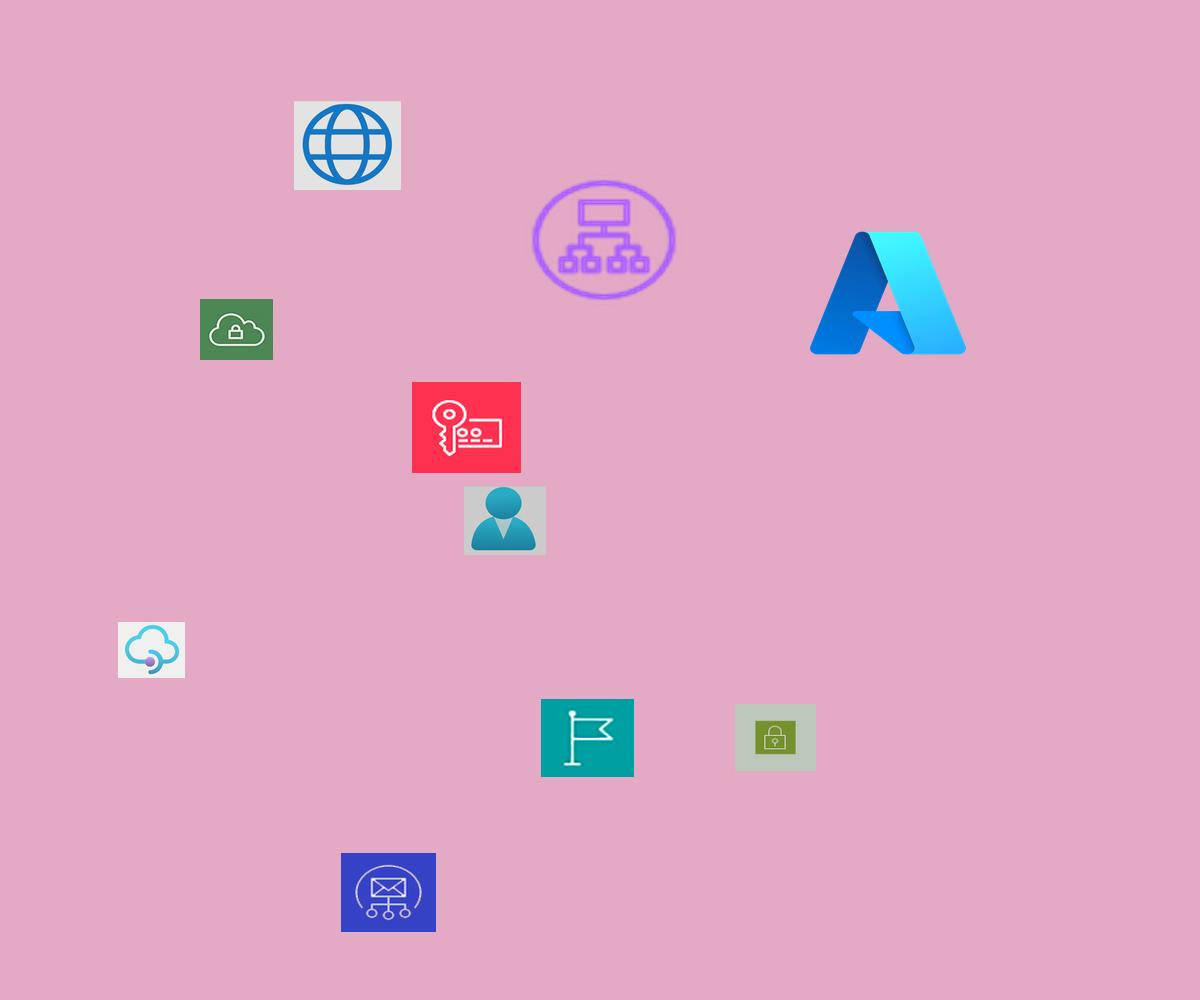AWS-Key-Management-Service: (412, 382, 521, 473)
AWS-Private_vpc: (200, 299, 273, 360)
AWS-Public-subnet: (735, 704, 816, 771)
AWS-Region: (541, 699, 634, 777)
AWS-Res_Elastic-Load-Balancing_Application-Load-Balancer: (526, 175, 682, 305)
AWS-Simple-Email-Service: (341, 853, 436, 932)
Azure_api_gateway: (118, 622, 185, 678)
Azure_http: (294, 101, 401, 190)
Azure_services: (803, 222, 973, 364)
Azure_users: (464, 486, 546, 555)
